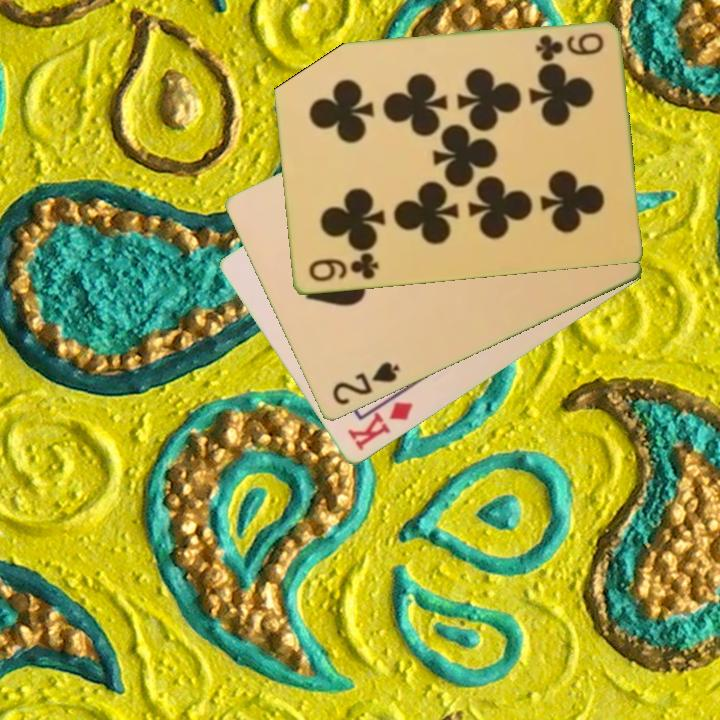2s: (328, 358, 403, 409)
9c: (305, 250, 381, 285), (531, 29, 606, 62)
Kd: (344, 387, 416, 454)
